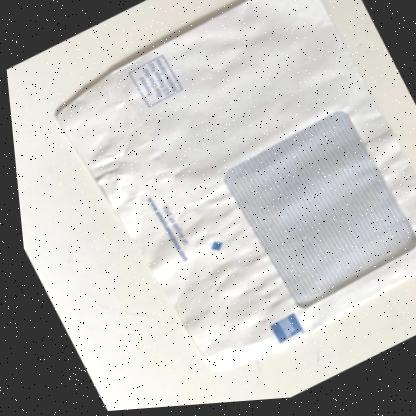Paper: (52, 0, 416, 372)
